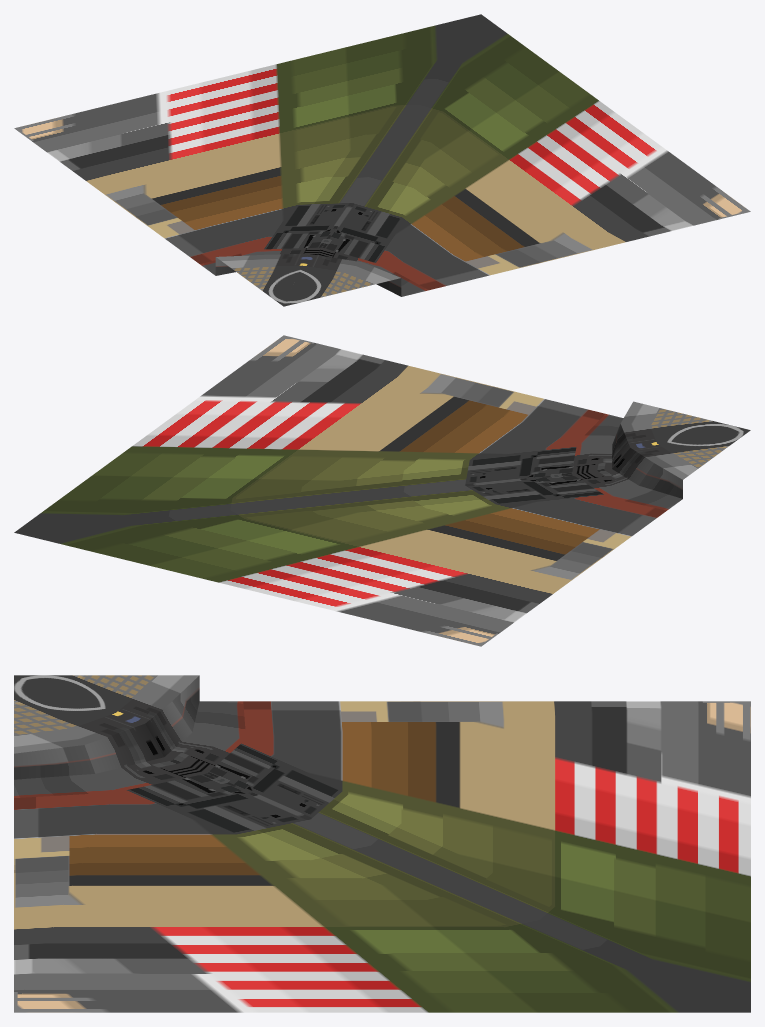
The model's file is road_Asphalt_Corner.gltf.
The picture shows the model from 3 angles, top to bottom: view 1: azimuth 30°, elevation 25°; view 2: azimuth 150°, elevation 25°; view 3: azimuth 270°, elevation 25°; orthographic projection. The views are drawn at different scales.
Parts seen in each view (by area): view 1: road_Asphalt_Corner; view 2: road_Asphalt_Corner; view 3: road_Asphalt_Corner.
Boxes of the visible parts, x1,y1,x2,y2 form: road_Asphalt_Corner: (14, 14, 750, 306); road_Asphalt_Corner: (14, 335, 750, 646); road_Asphalt_Corner: (14, 675, 750, 1012).
Bounding box in the file's own units: 5 × 0.1948 × 5.
Materials: 1 (1 with a texture image).
